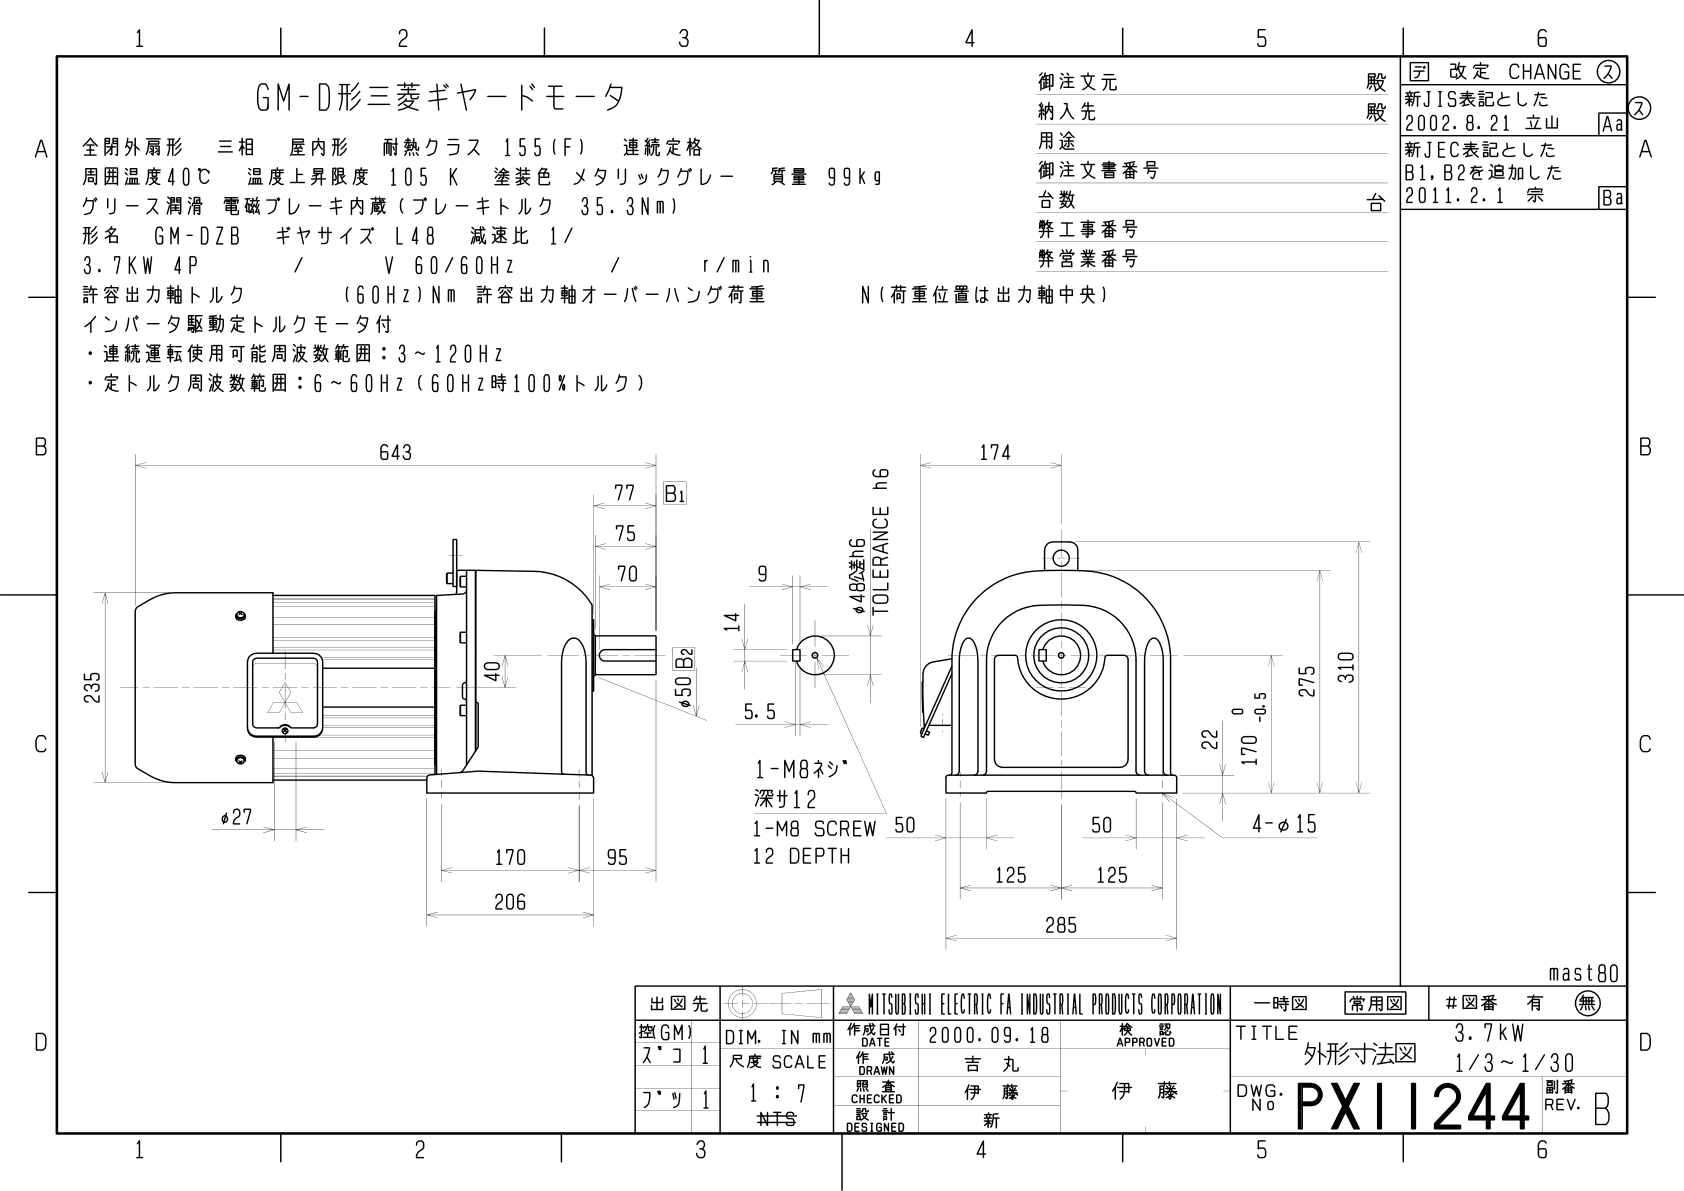GM_D_インバータ屋内_三相_脚: (70, 403, 1377, 971)
